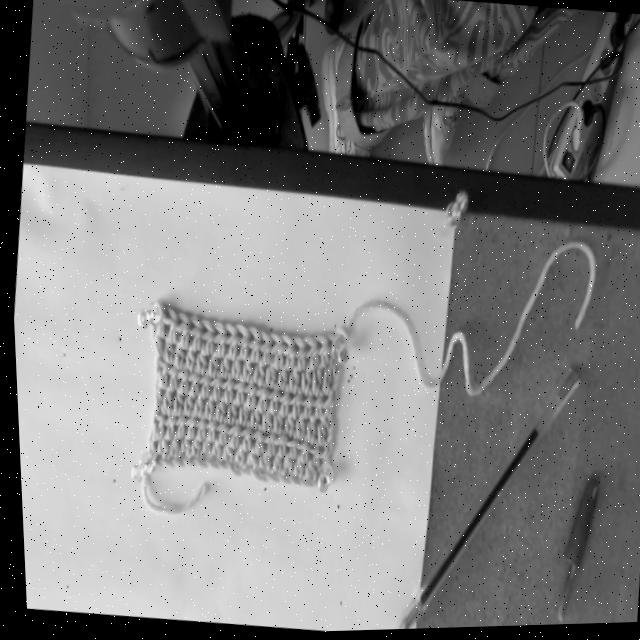ch: (243, 468, 261, 482), (267, 472, 285, 484), (228, 464, 245, 476), (219, 462, 234, 475), (257, 471, 273, 483), (187, 456, 202, 468), (281, 475, 298, 485), (151, 458, 168, 468), (207, 460, 222, 470), (198, 459, 213, 469), (296, 477, 310, 486), (165, 459, 180, 467), (176, 459, 189, 466)
hdc: (218, 323, 236, 362), (206, 321, 223, 360), (170, 312, 186, 351), (157, 307, 173, 345), (185, 314, 200, 353), (265, 333, 280, 372), (275, 335, 291, 371), (231, 323, 246, 361), (299, 335, 314, 373), (242, 326, 257, 363), (287, 337, 302, 374), (283, 387, 299, 421), (310, 335, 326, 369), (197, 320, 212, 356), (239, 375, 253, 412), (272, 384, 286, 421), (251, 380, 265, 416), (254, 331, 268, 366), (280, 430, 295, 462), (182, 364, 196, 398), (217, 371, 230, 407), (204, 371, 218, 404), (267, 430, 282, 460), (210, 414, 224, 446), (222, 417, 236, 449), (233, 421, 247, 453), (228, 374, 242, 406), (262, 382, 275, 416), (238, 443, 253, 472), (258, 427, 272, 458), (290, 434, 304, 465), (168, 408, 182, 438), (296, 388, 309, 420), (179, 409, 192, 440), (246, 424, 259, 455), (172, 362, 184, 395), (193, 369, 206, 399), (190, 410, 202, 442), (306, 390, 318, 422), (203, 347, 215, 379), (296, 361, 306, 399), (171, 434, 185, 461), (317, 391, 328, 425), (170, 336, 181, 370), (249, 355, 260, 388), (192, 343, 203, 376), (156, 386, 168, 416), (163, 358, 173, 394), (307, 362, 317, 398), (159, 333, 170, 365), (152, 361, 165, 388), (158, 408, 170, 437), (201, 413, 213, 442), (261, 359, 272, 390), (181, 339, 191, 373), (161, 434, 174, 460), (227, 443, 240, 469), (253, 448, 266, 474), (166, 386, 177, 416), (290, 409, 300, 442), (284, 366, 295, 396), (286, 455, 299, 480), (148, 413, 160, 440), (318, 359, 327, 395), (188, 389, 199, 418), (183, 435, 196, 459), (204, 438, 217, 462), (303, 439, 315, 465), (215, 348, 225, 379), (149, 436, 163, 458), (210, 396, 221, 424), (278, 412, 289, 440), (301, 412, 310, 446), (311, 413, 320, 447), (193, 436, 206, 459), (267, 409, 278, 436), (233, 401, 244, 428), (222, 397, 232, 426), (227, 352, 237, 381), (149, 386, 159, 413), (257, 407, 267, 434), (238, 356, 248, 383), (264, 453, 276, 475), (276, 453, 287, 477), (216, 441, 229, 461), (179, 388, 188, 416), (200, 392, 209, 420), (299, 460, 311, 481), (273, 365, 283, 390), (245, 407, 255, 431), (313, 441, 323, 464)
